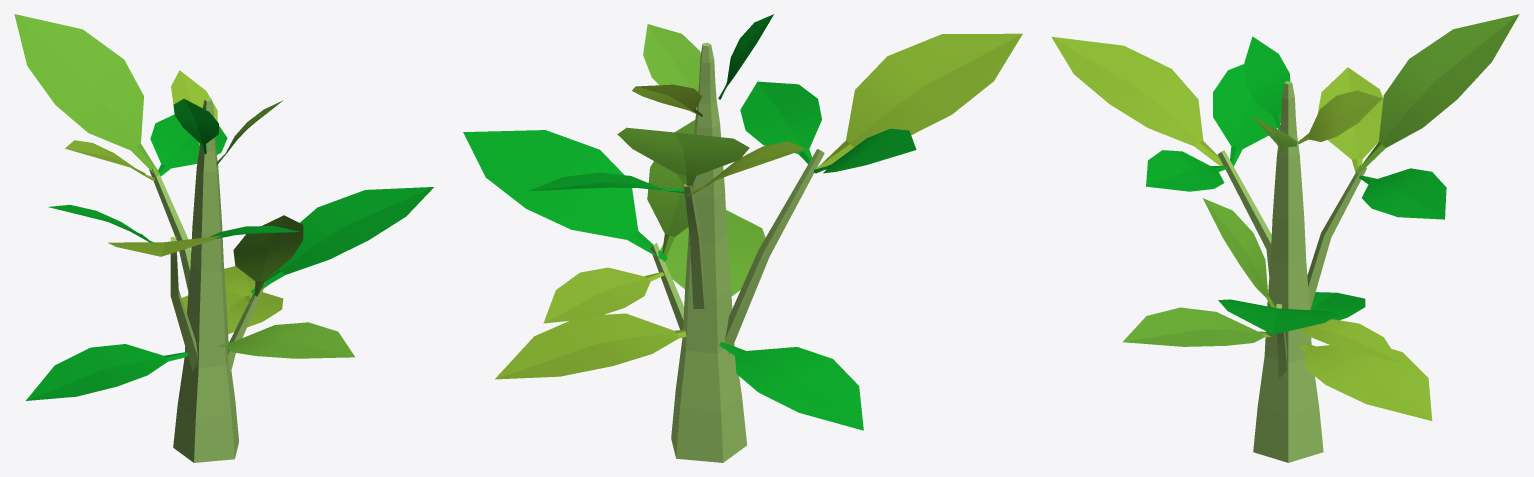
The model's file is mesh_stage2bush01.fbx.
3 renders of one model, left to right at view 1: azimuth 30°, elevation 25°; view 2: azimuth 150°, elevation 25°; view 3: azimuth 270°, elevation 25°, orthographic. The views are drawn at different scales.
Visible parts, largest first — view 1: mesh_stage2bush01; view 2: mesh_stage2bush01; view 3: mesh_stage2bush01.
Part boxes in pixels (bbox=[...]): mesh_stage2bush01: bbox=[14, 14, 433, 462]; mesh_stage2bush01: bbox=[463, 14, 1022, 462]; mesh_stage2bush01: bbox=[1051, 14, 1519, 462].
Bounding box in the file's own units: 0.4945 × 0.4587 × 0.4924.
